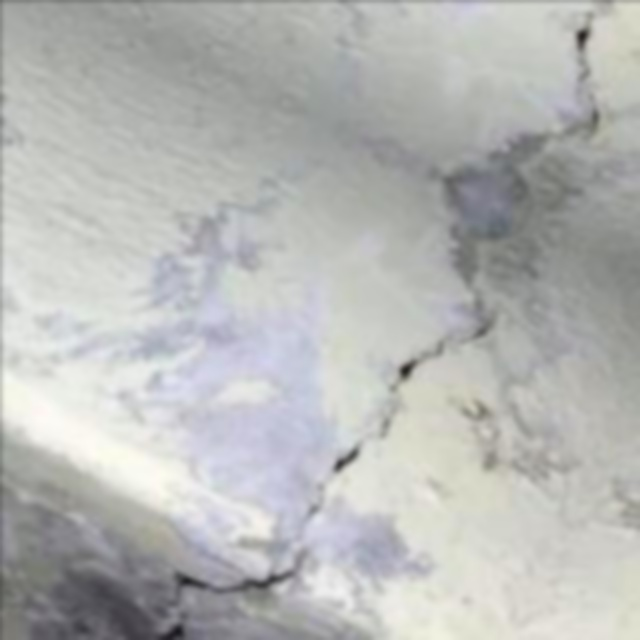SurfaceCrack: (126, 304, 520, 602), (520, 18, 628, 172)
